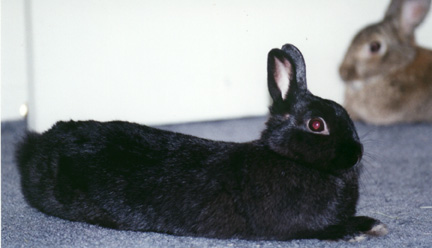bunny: (11, 37, 396, 246), (318, 3, 432, 128)
